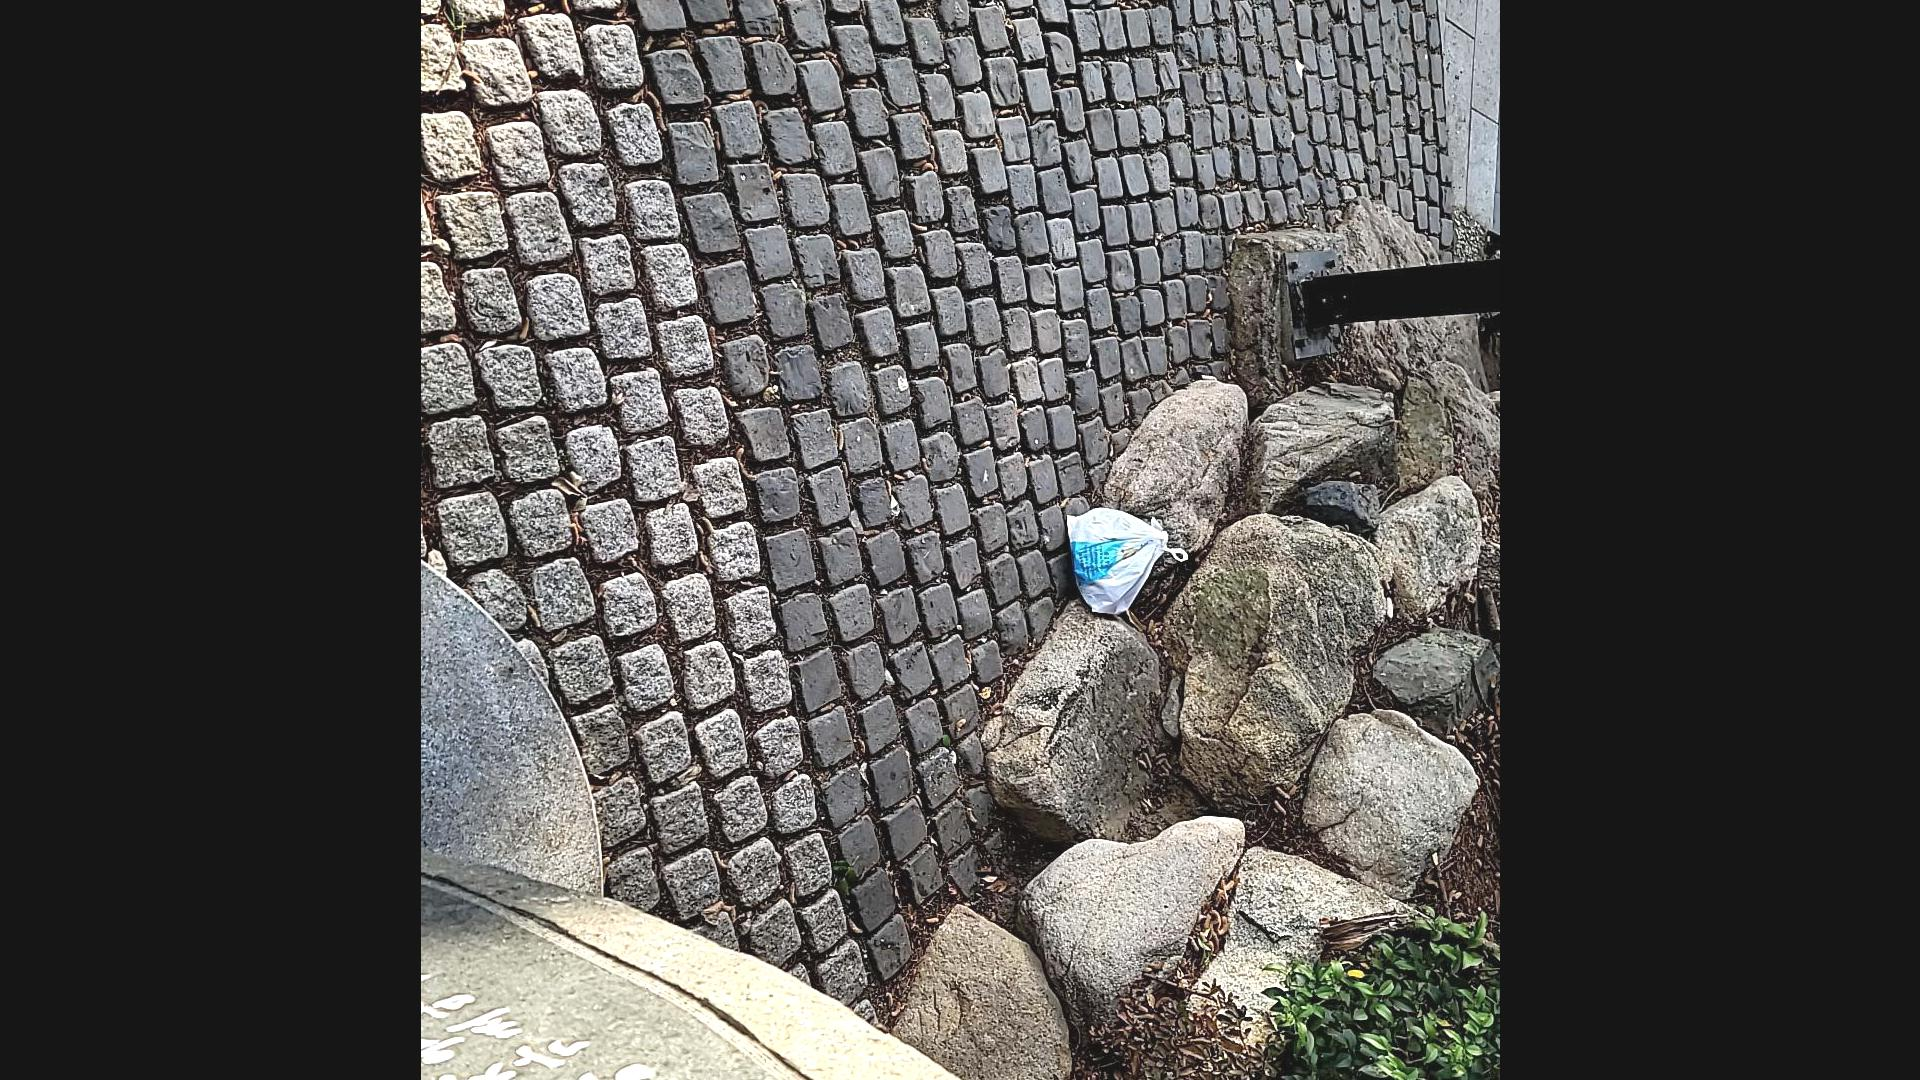white_bag: (1062, 498, 1196, 618)
